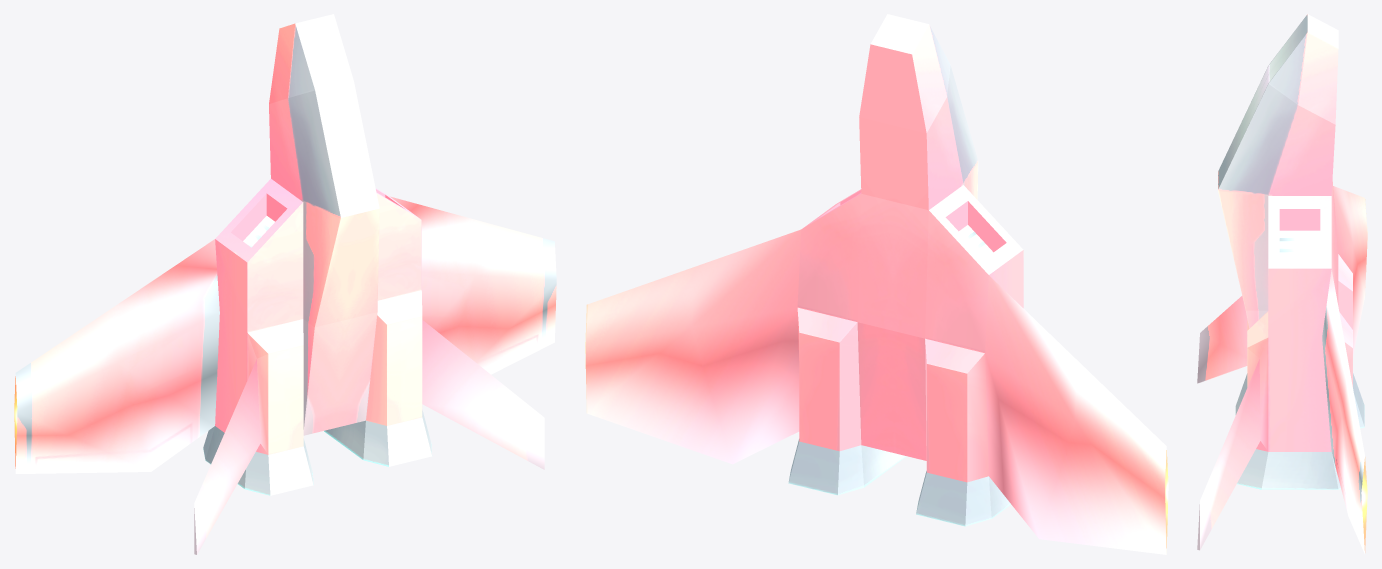
Rendered from spaceShip_LowPoly.glb.
3 renders of one model, left to right at view 1: azimuth 30°, elevation 25°; view 2: azimuth 150°, elevation 25°; view 3: azimuth 270°, elevation 25°, orthographic. The views are drawn at different scales.
Visible parts, largest first — view 1: ship; view 2: ship; view 3: ship.
Boxes of the visible parts, bbox=[...] form: ship: bbox=[14, 14, 556, 554]; ship: bbox=[585, 14, 1168, 554]; ship: bbox=[1197, 14, 1367, 553].
Size of the model in its own units: 2.41 by 1.94 by 0.6748.
